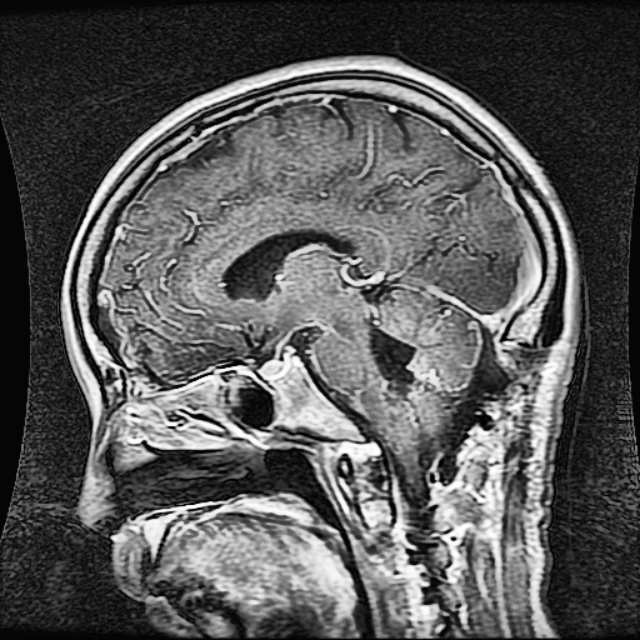Meningioma: (370, 324, 418, 402)
